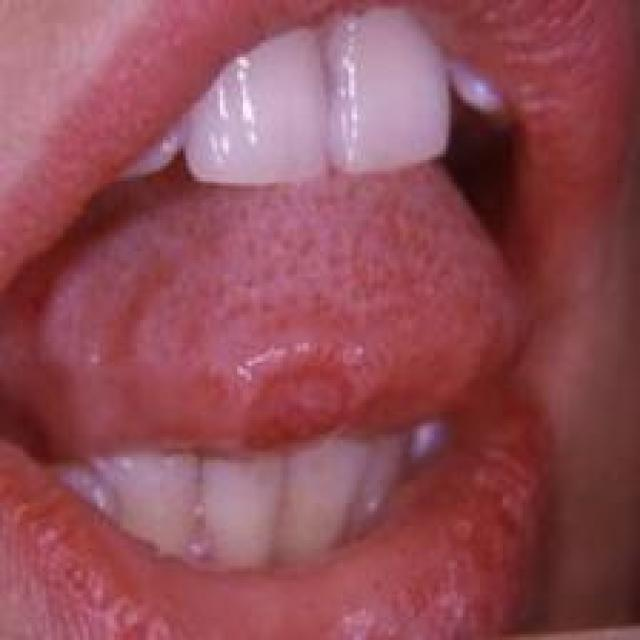processing_area: (10, 164, 525, 462)
ulcer-detection: (236, 345, 367, 456)
